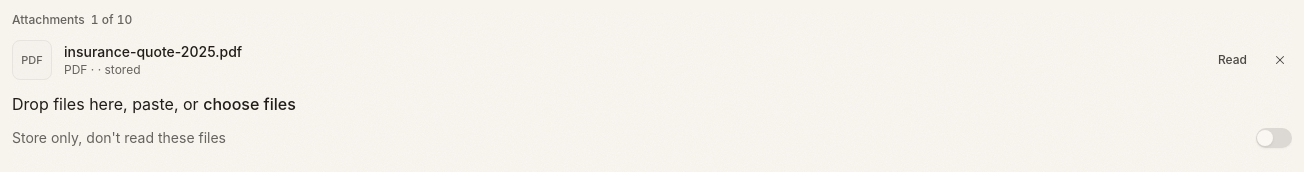
Test case: PlannerTaskAttachments › the Store-only switch keeps the task's files unread, and goes back when the server refuses
Later steps or results of the test are not shown.
Click the switch with test id "planner-attachments-store-only" at coordinates (1274, 138), box top-left (1256, 128), bottom-right (1292, 148)
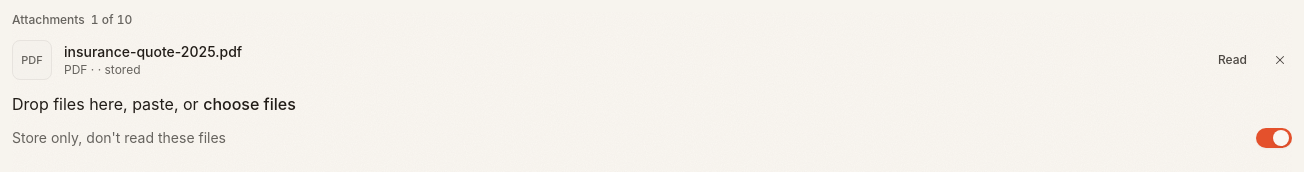
Result: the switch with test id "planner-attachments-store-only" is checked at top-left (1256, 128), bottom-right (1292, 148)
